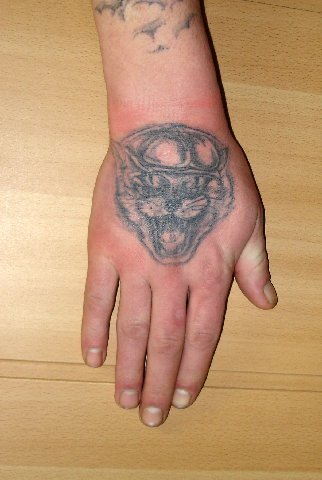tatu8_kot: (101, 125, 244, 266)
